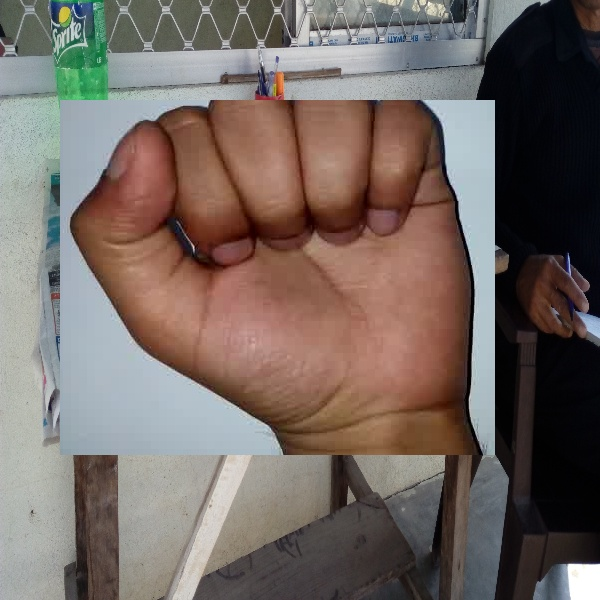A: (60, 100, 495, 455)
